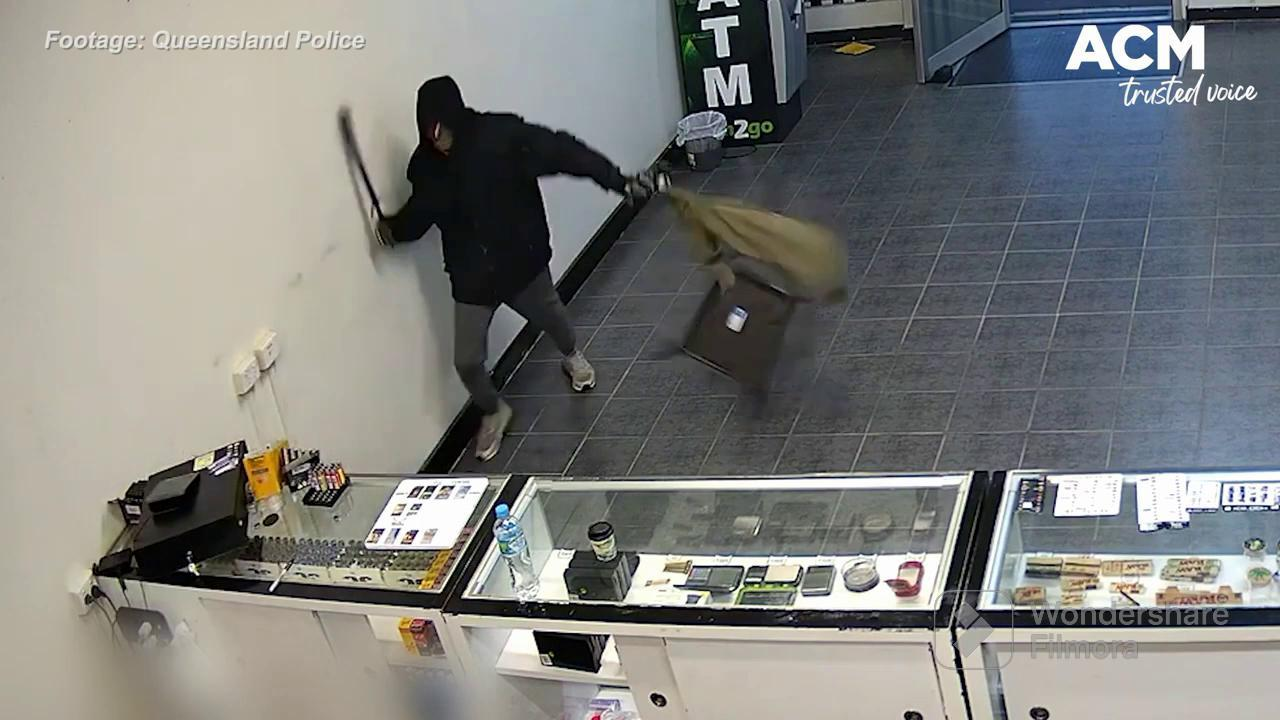melee: (340, 106, 393, 239)
